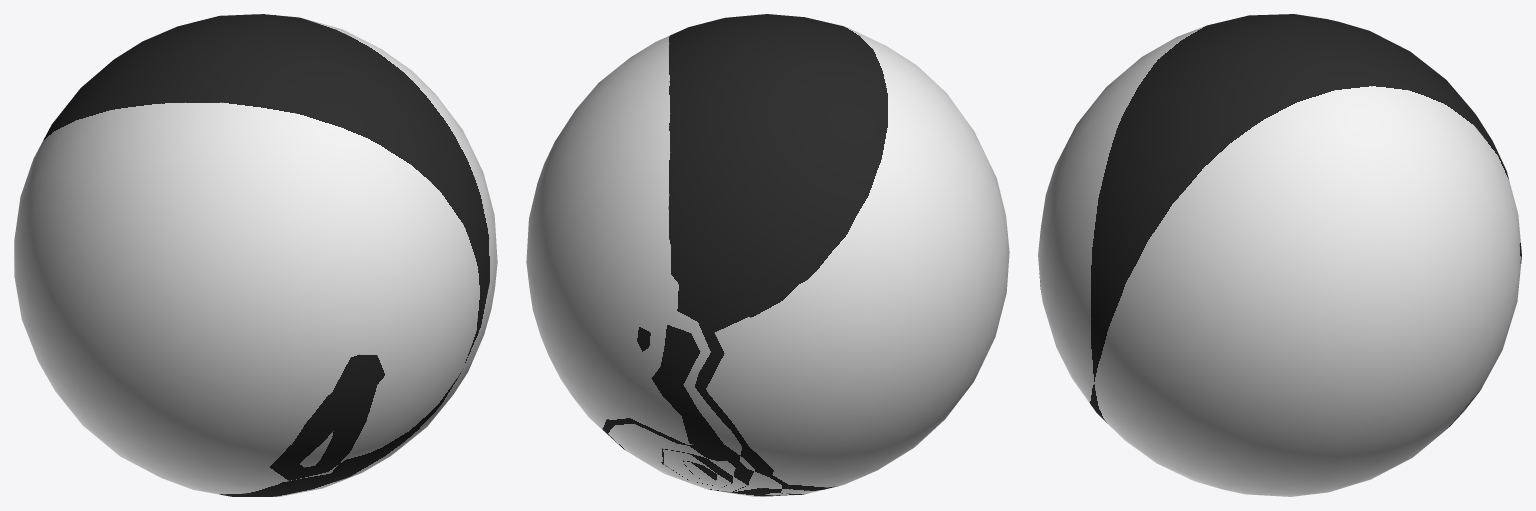
File: sphere_R100mm_cgal_conformal_result.glb
The picture shows the model from 3 angles, left to right: view 1: azimuth 30°, elevation 25°; view 2: azimuth 150°, elevation 25°; view 3: azimuth 270°, elevation 25°; orthographic projection.
Size of the model in its own units: 200 by 199 by 200.
Materials: 1 (1 with a texture image).
